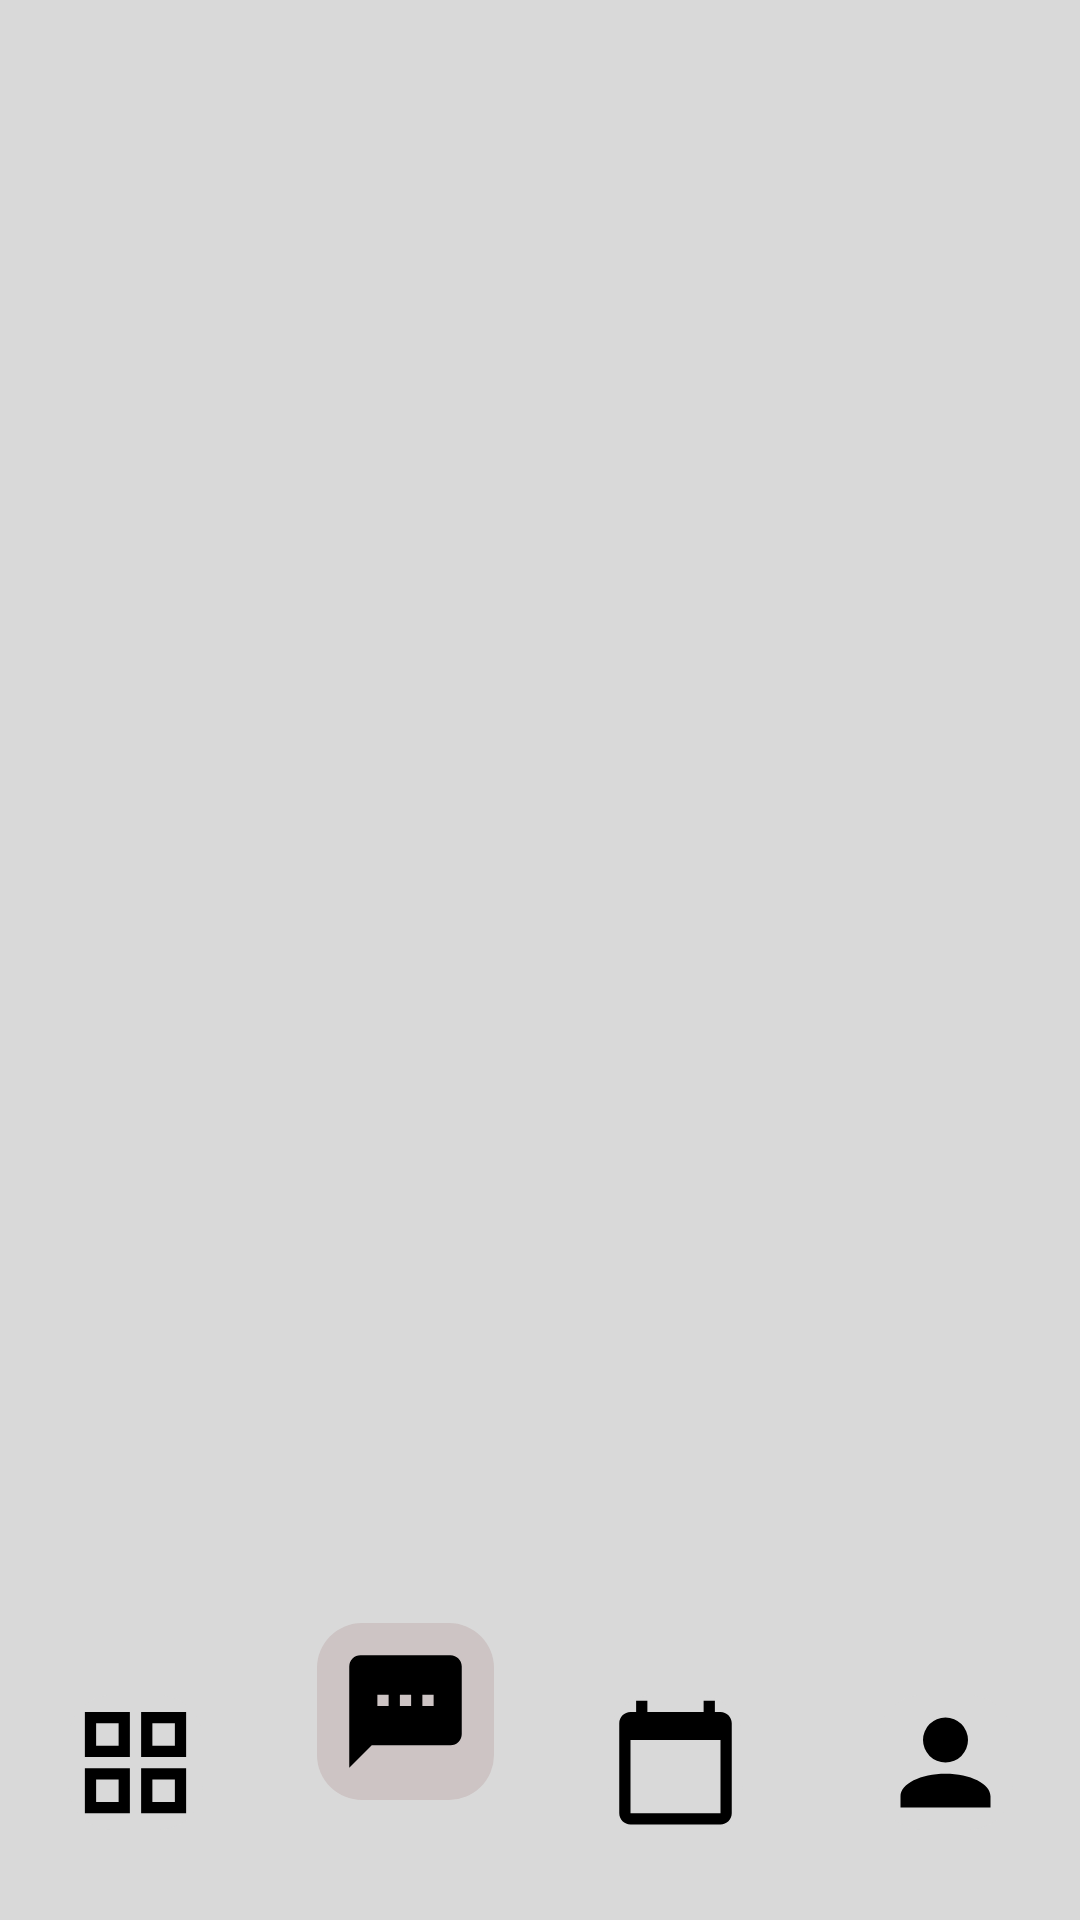

Named icons in this screenshot (1080x1920) and their centers, (x,y):
account: (945,1762)
calendar today: (675,1762)
message processing: (405,1711)
view grid: (135,1763)
